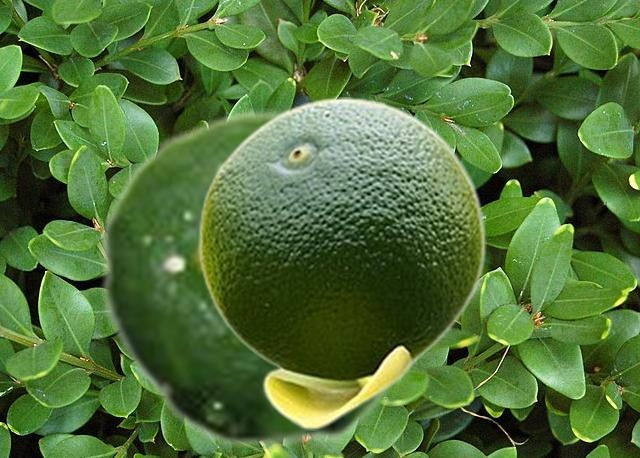calamansi: (99, 108, 403, 449), (198, 97, 485, 429)
